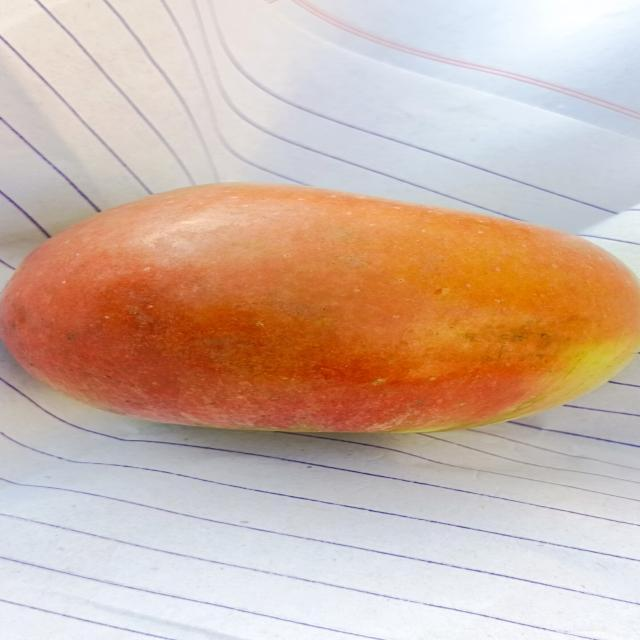Fresh Apple: (13, 181, 640, 441)
